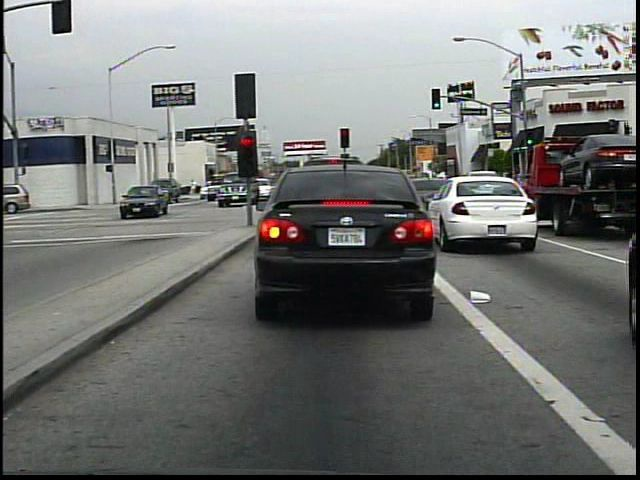person: (189, 175, 200, 200)
